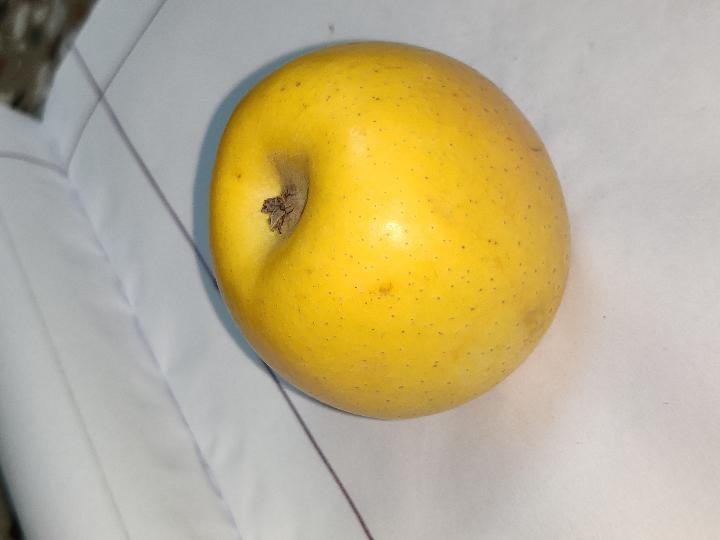apple: (210, 43, 570, 417)
